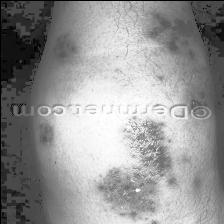Non-Cancerous Skin Condition: (86, 118, 172, 224), (141, 8, 196, 71), (48, 30, 78, 68), (36, 122, 53, 148), (185, 96, 205, 108)
